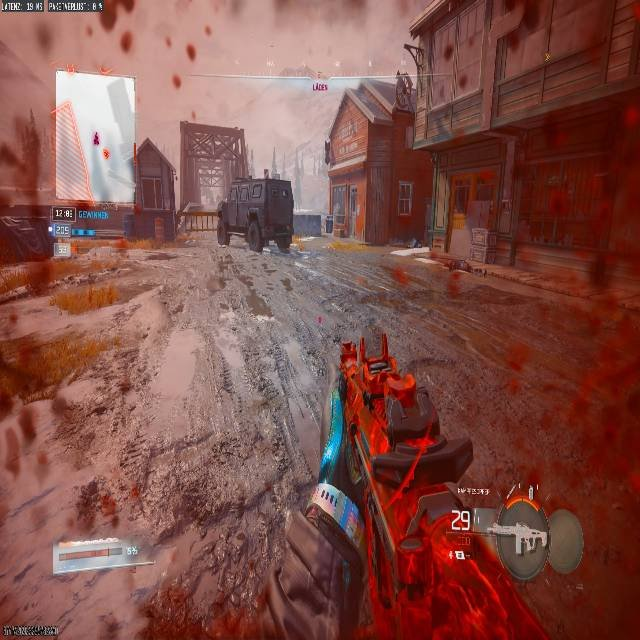head: (339, 340, 363, 368)
player: (327, 337, 443, 461)
